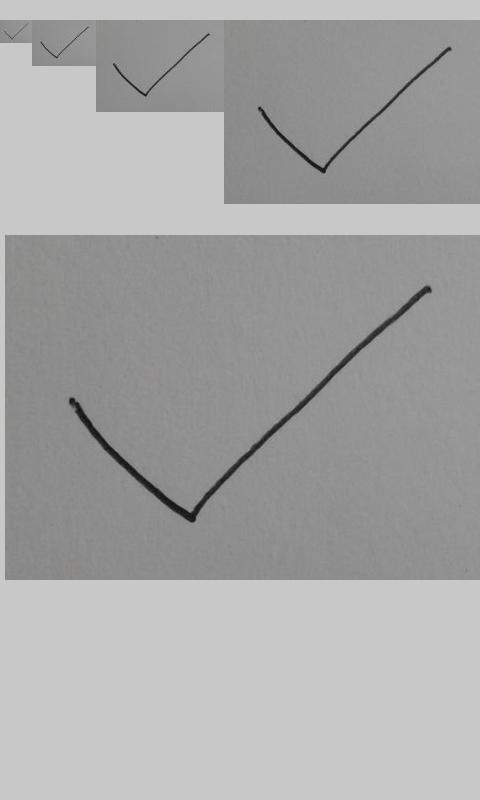check_box: (69, 285, 431, 525), (258, 47, 450, 173), (113, 33, 211, 96), (40, 26, 88, 58), (3, 23, 28, 40)
